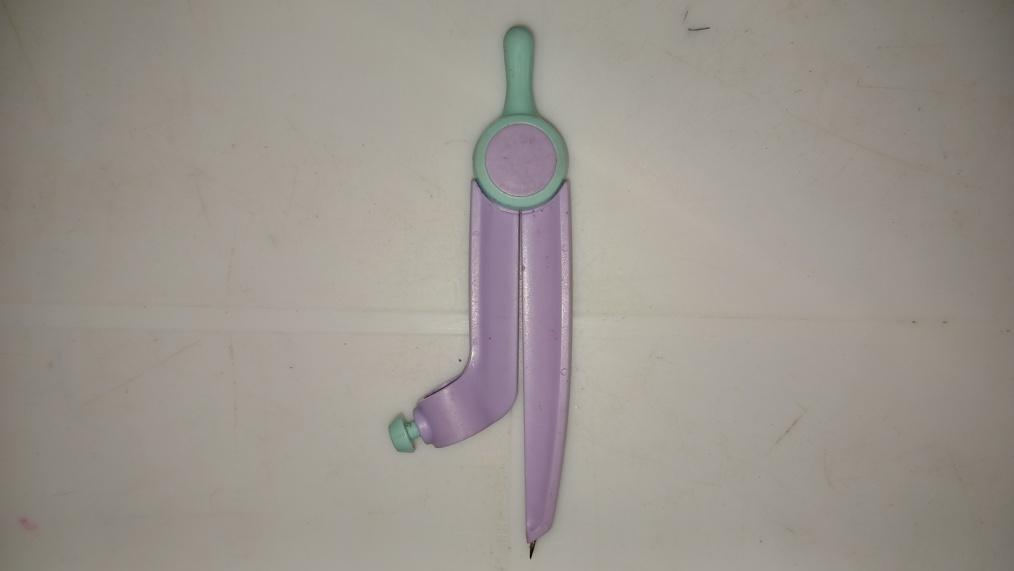Compass: (389, 24, 575, 559)
